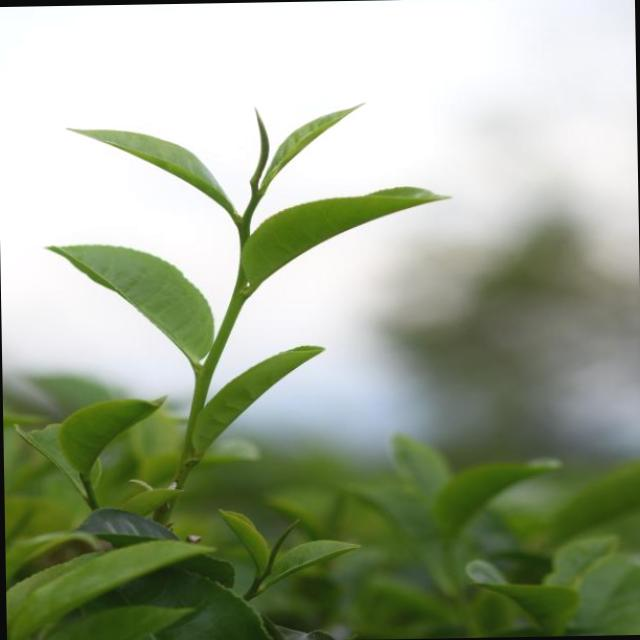Stem: (237, 218, 249, 232), (251, 577, 261, 585)
